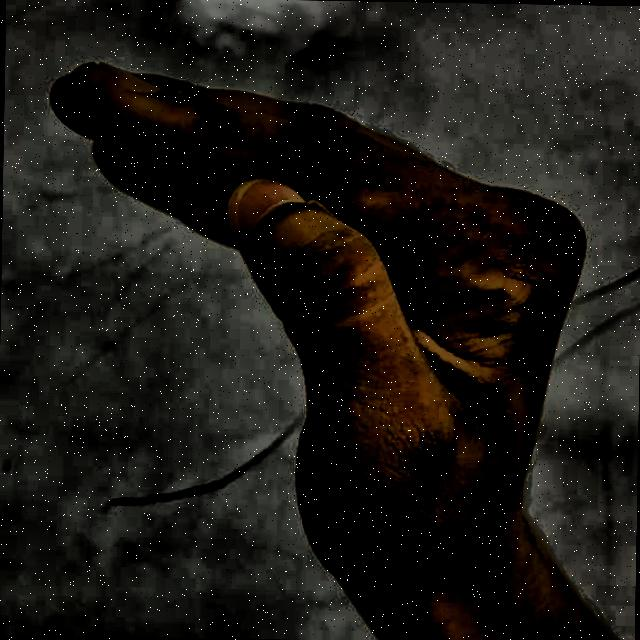Ga: (23, 38, 618, 612)
